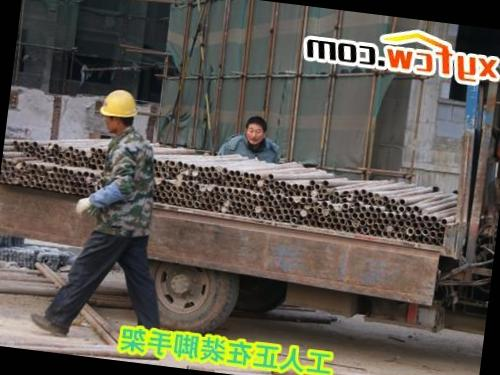no_helmet: (238, 111, 273, 149)
